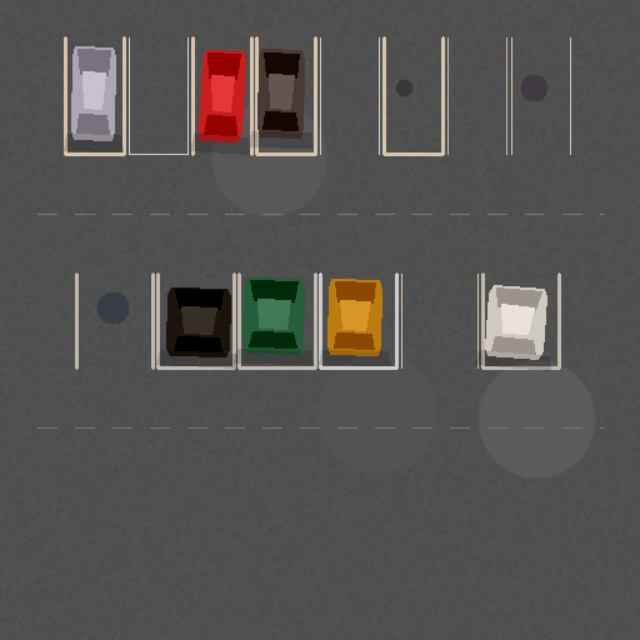space-empty: (76, 274, 153, 368), (401, 274, 477, 368), (320, 37, 379, 154), (384, 37, 443, 154), (447, 37, 506, 154), (511, 37, 570, 154), (129, 37, 187, 154)
space-occupied: (157, 274, 234, 368), (239, 274, 315, 368), (320, 274, 396, 368), (483, 274, 559, 368), (65, 37, 124, 154), (256, 37, 315, 154), (193, 37, 251, 154)
